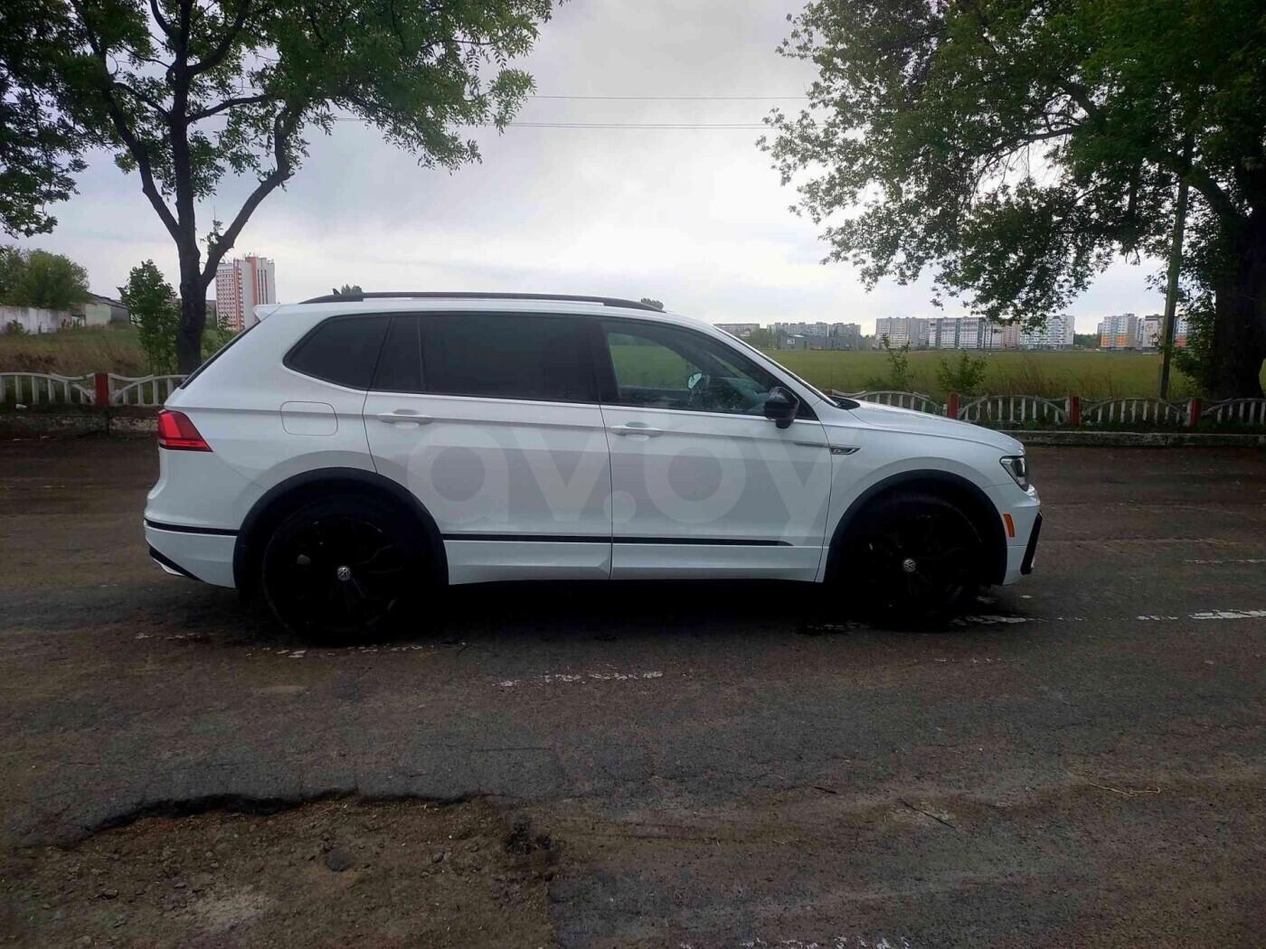Tiguan_2016-2021: (138, 285, 1048, 652)
